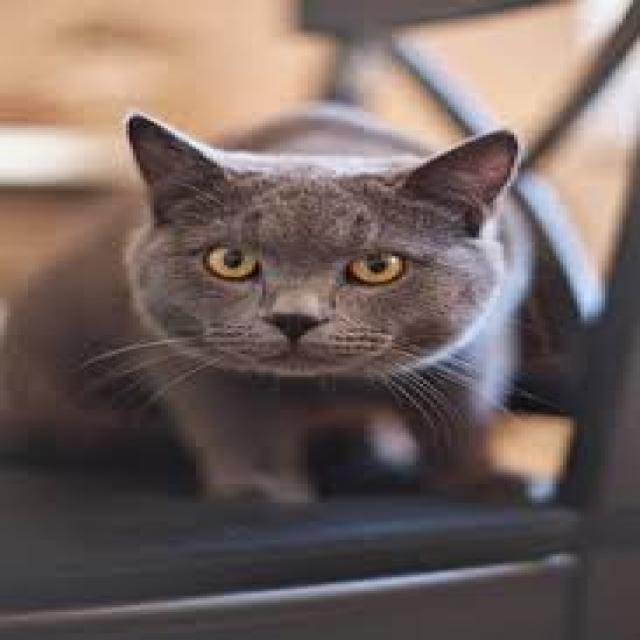Cat: (4, 105, 556, 517)
